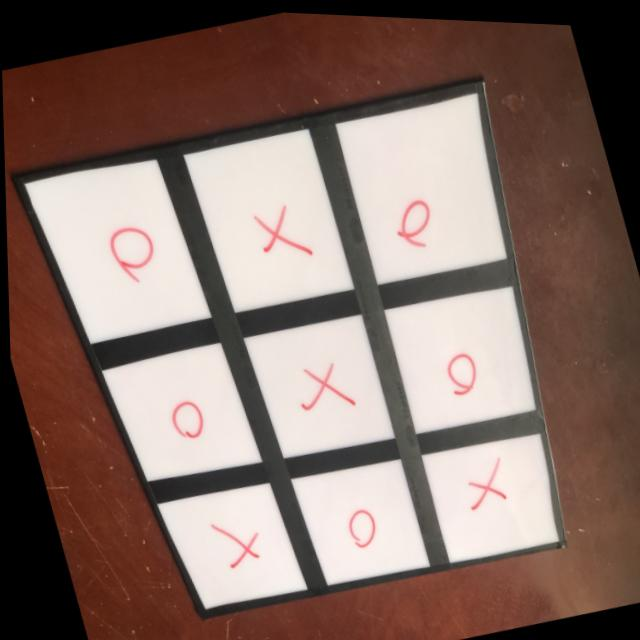o: (99, 216, 165, 285), (386, 184, 443, 253), (435, 337, 483, 397), (160, 390, 206, 445), (341, 502, 382, 550)
table: (7, 75, 576, 633)
x: (243, 191, 311, 268), (288, 347, 353, 416), (204, 504, 266, 576), (457, 451, 516, 520)
